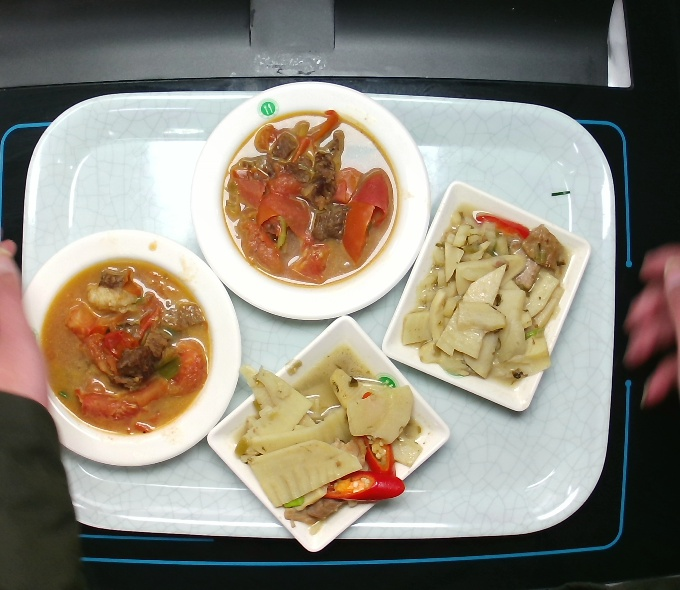wcq-DongSun: (228, 338, 438, 533), (399, 203, 582, 395)
wcq-FanQiwNiuRou: (212, 104, 406, 288), (46, 258, 213, 441)
